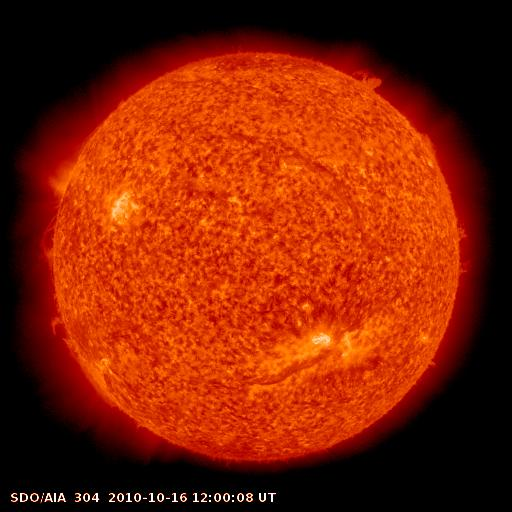prominence: (44, 311, 120, 412), (32, 205, 71, 279), (341, 52, 392, 101), (447, 217, 485, 282), (412, 124, 449, 168)
